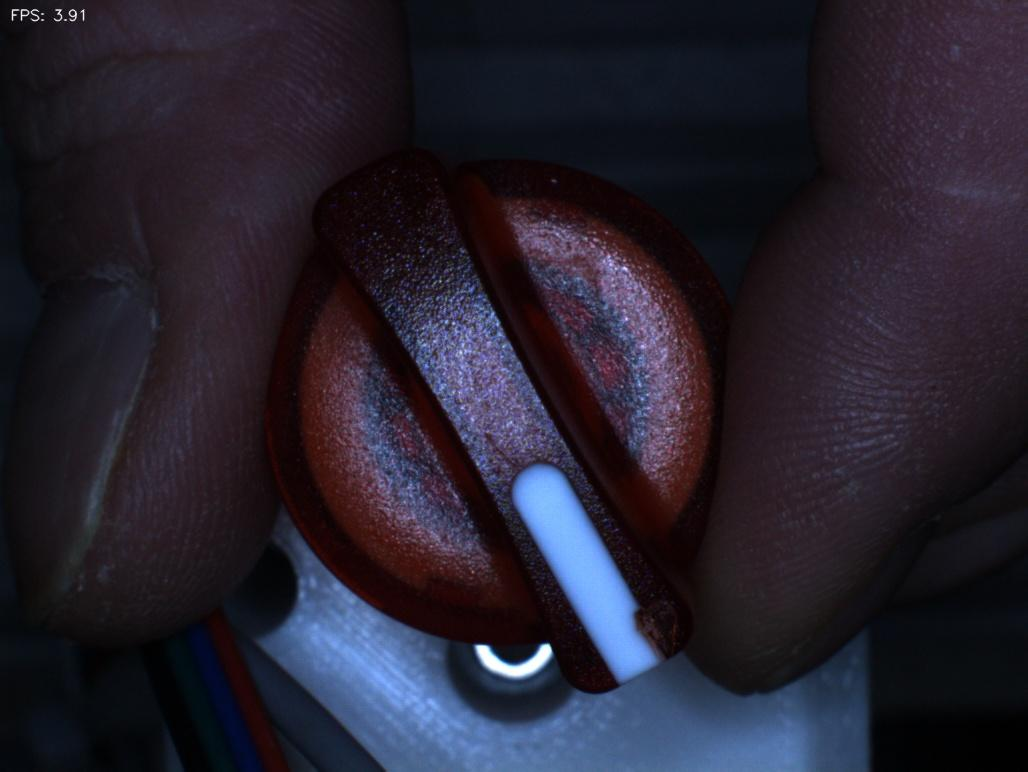Choc: (603, 563, 715, 679)
